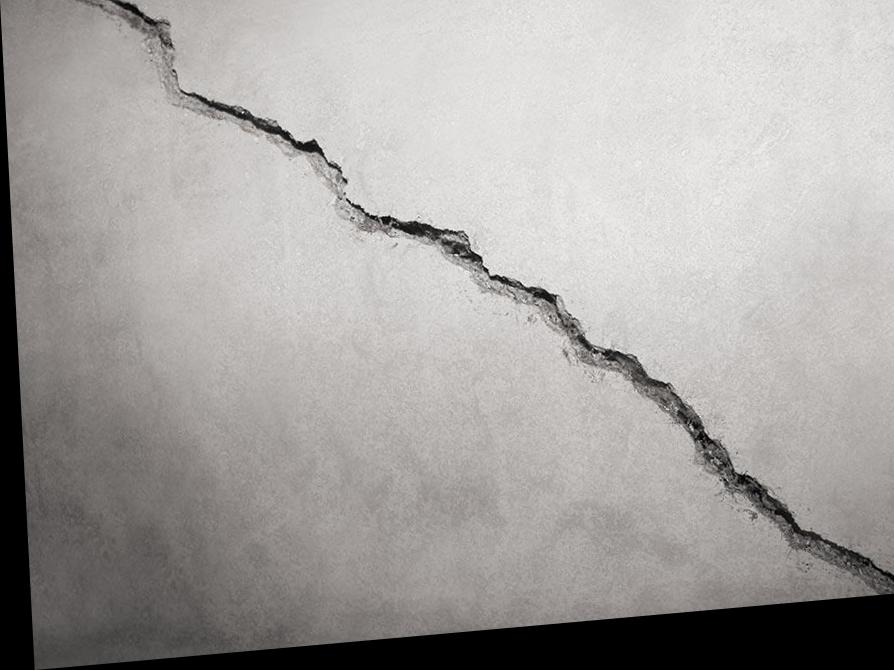crack: (73, 0, 894, 611)
